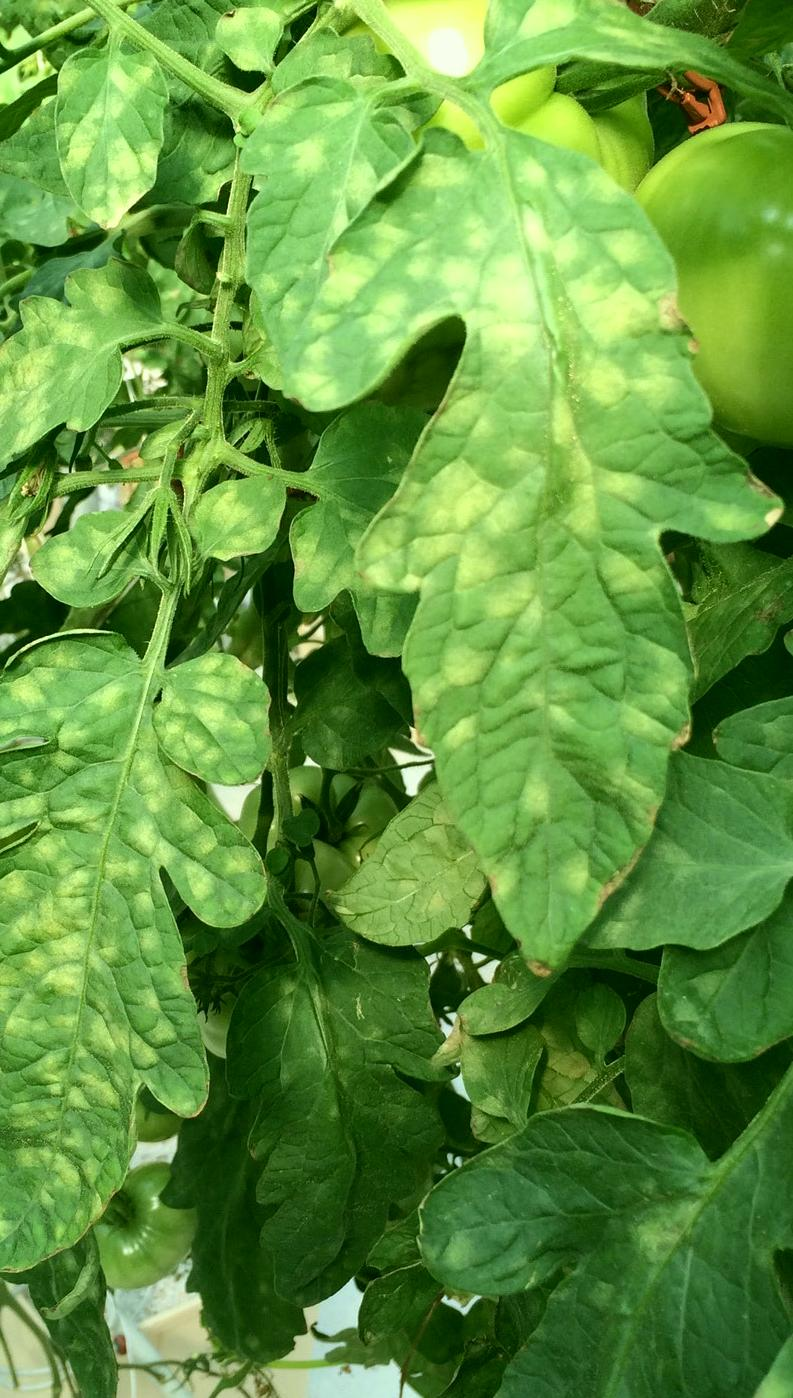Tomato mold leaf: (314, 135, 711, 968), (0, 627, 268, 1281), (0, 261, 202, 488), (239, 59, 432, 288), (333, 746, 500, 953), (50, 43, 165, 247), (484, 0, 731, 91), (184, 475, 295, 574), (25, 507, 131, 608)
